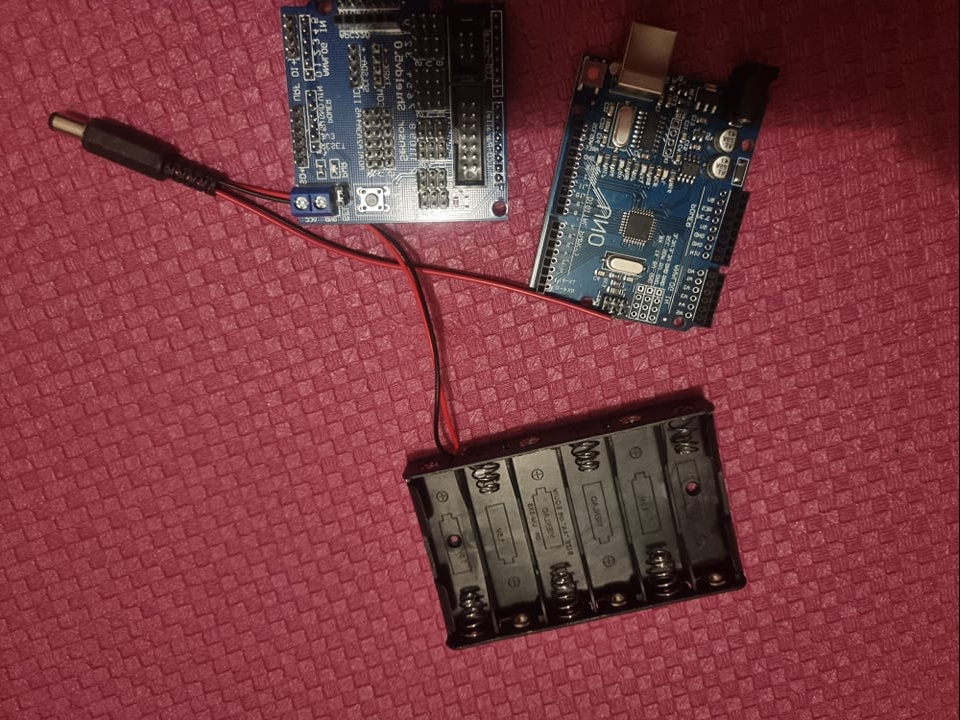5V EXPANSION: (279, 3, 513, 222)
BATTERY BOX: (405, 389, 746, 655)
UNO R3: (529, 26, 776, 328)
